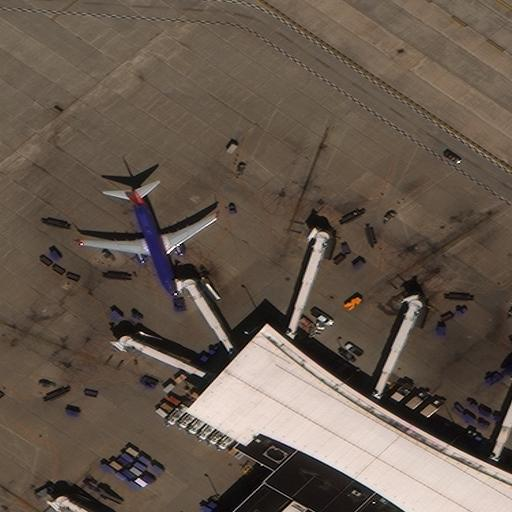Medium Civil Transport: (77, 190, 218, 299)
